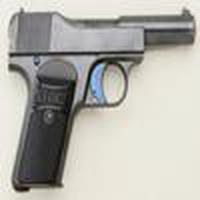gun: (3, 11, 200, 196)
